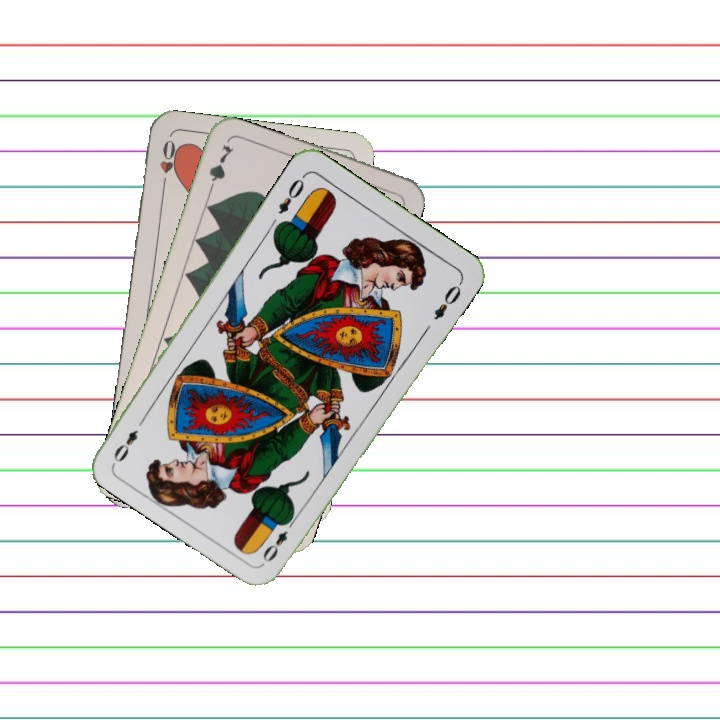EO: (258, 513, 299, 565), (274, 170, 308, 217)
G7: (204, 140, 236, 198)
HO: (156, 135, 179, 194)
